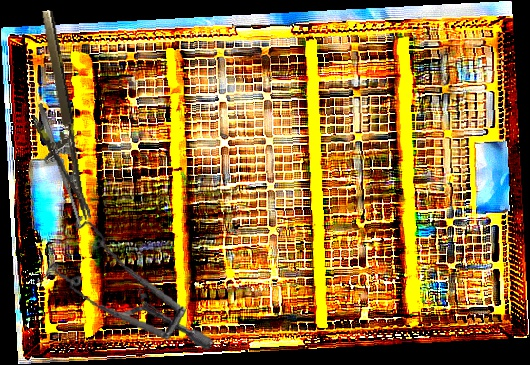Needle Holder: (14, 9, 92, 226)
Spatula Surgical: (36, 102, 84, 229)
Speculum: (35, 212, 229, 351)
